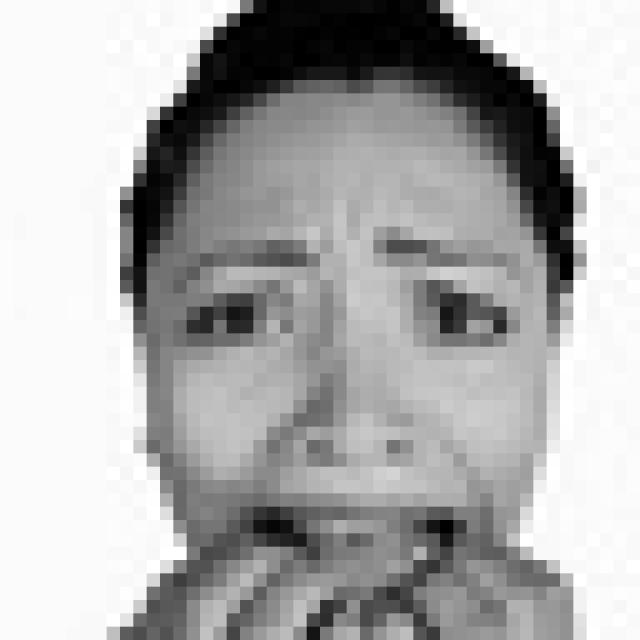fear: (162, 204, 539, 603)
